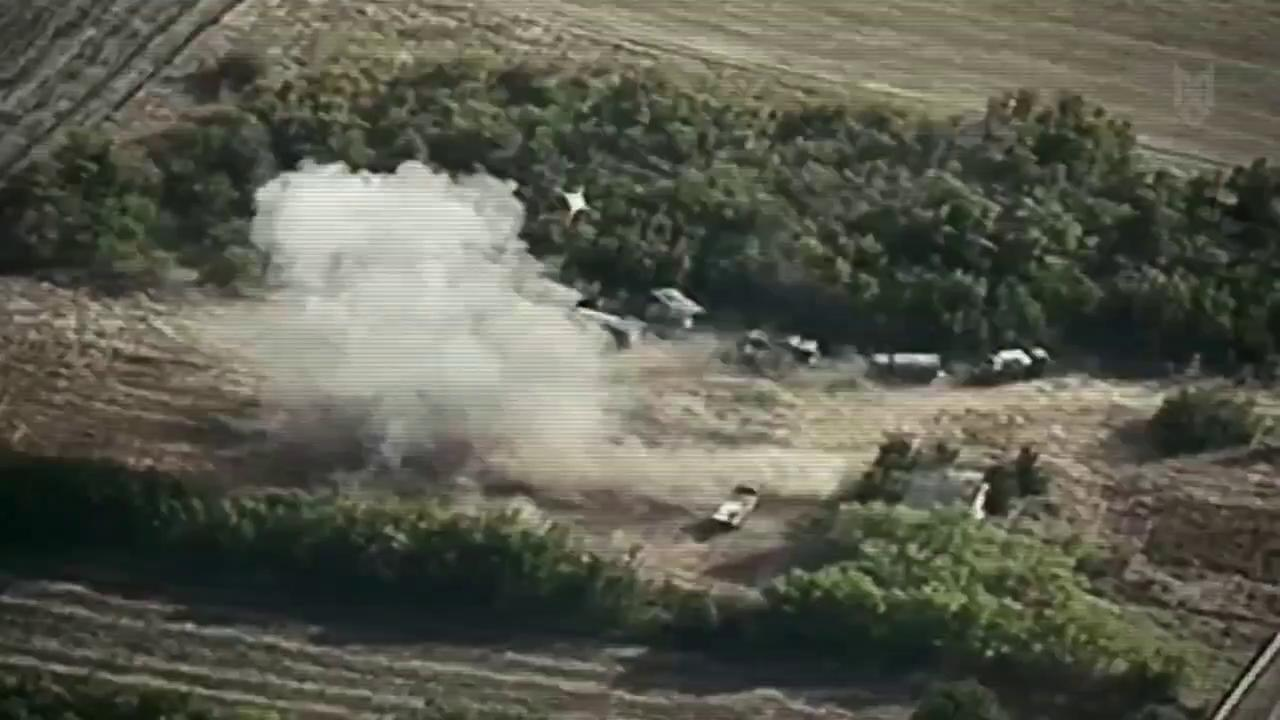tank: (739, 322, 824, 370), (866, 339, 940, 389), (715, 472, 764, 535), (983, 343, 1047, 385), (653, 287, 708, 335), (596, 310, 642, 354)
